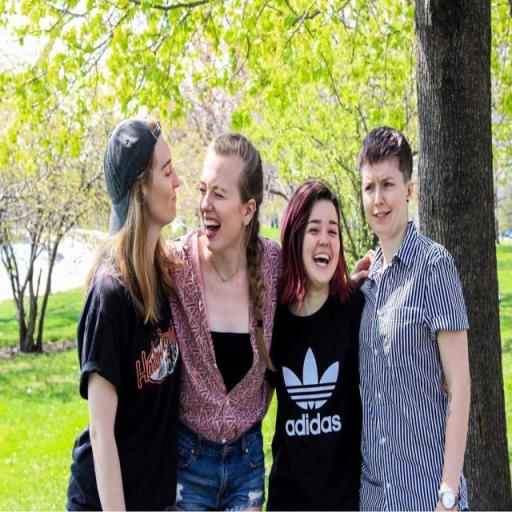Adidas: (279, 343, 344, 438)
